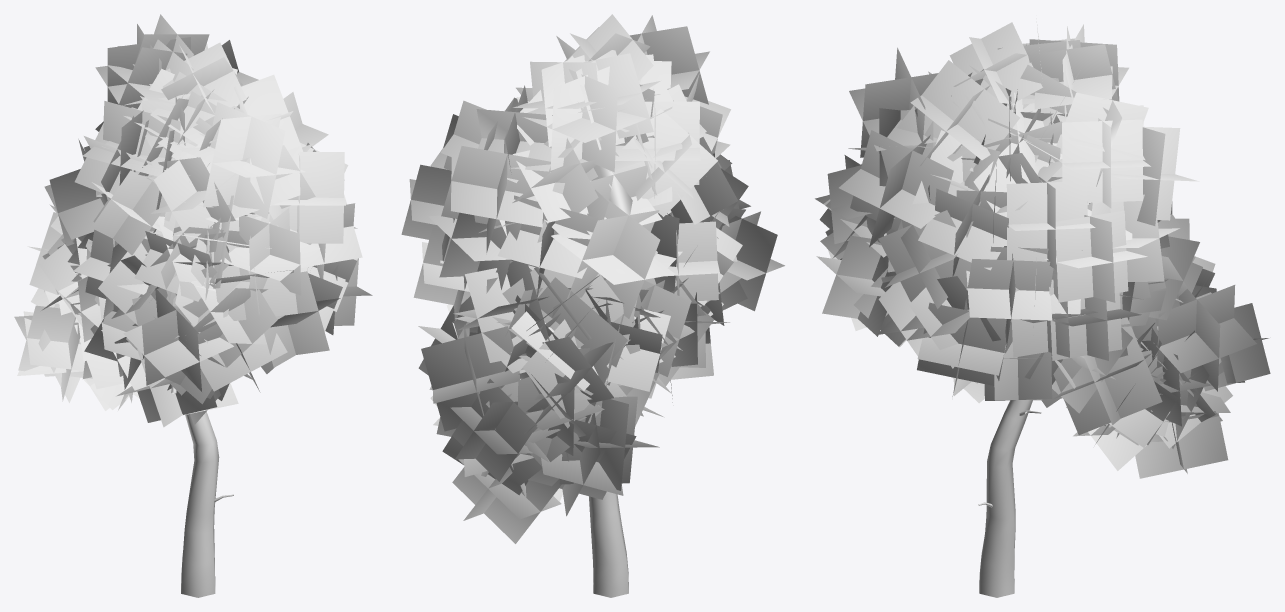
Rendered from STOak2.glb.
3 views of the same model, side by side, from view 1: azimuth 30°, elevation 25°; view 2: azimuth 150°, elevation 25°; view 3: azimuth 270°, elevation 25° (orthographic). The views are drawn at different scales.
Visible parts, largest first — view 1: Leaf.003; view 2: Leaf.003; view 3: Leaf.003.
Part boxes in pixels (<box>): Leaf.003: <box>14,14,372,597</box>; Leaf.003: <box>401,14,784,597</box>; Leaf.003: <box>815,18,1270,597</box>.
Bounding box in the file's own units: 10.58 × 20.28 × 14.93.
Materials: 2 (1 with a texture image).
